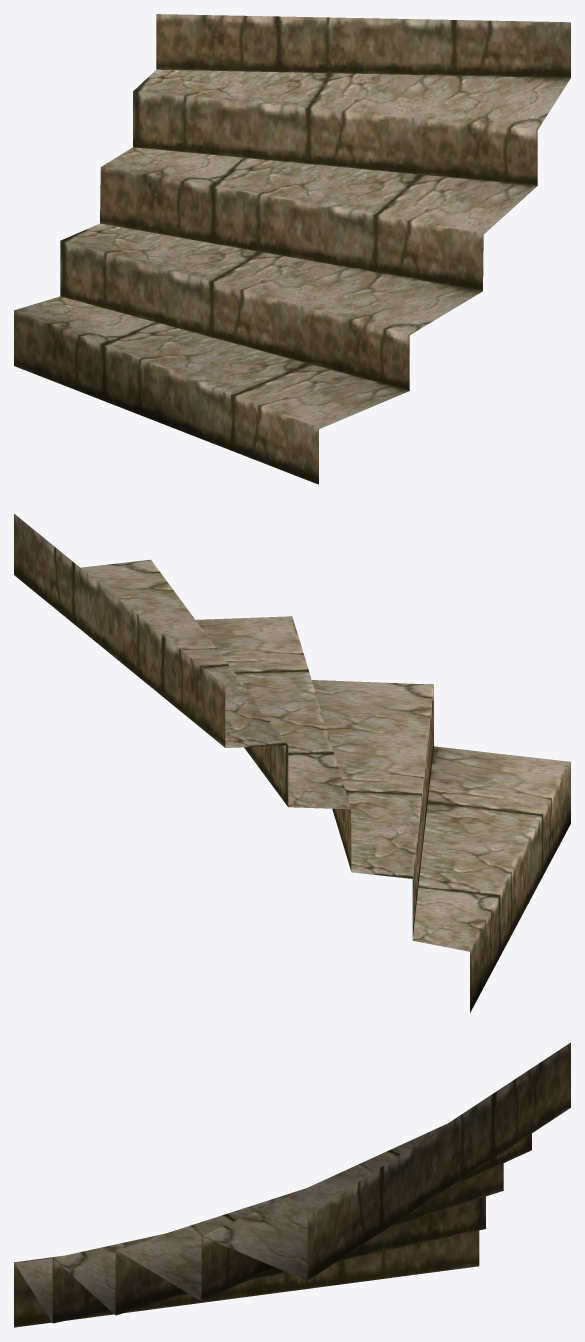
The model's file is OVERHILL_A_01_WALL9.fbx.
The picture shows the model from 3 angles, top to bottom: view 1: azimuth 30°, elevation 25°; view 2: azimuth 150°, elevation 25°; view 3: azimuth 270°, elevation 25°; orthographic projection. The views are drawn at different scales.
Parts seen in each view (by area): view 1: OVERHILL_A_01_WALL9; view 2: OVERHILL_A_01_WALL9; view 3: OVERHILL_A_01_WALL9.
Part boxes in pixels (x1,y1,x2,y2): OVERHILL_A_01_WALL9: (14,14,570,484); OVERHILL_A_01_WALL9: (14,514,570,1012); OVERHILL_A_01_WALL9: (14,1042,570,1327).
Size of the model in its own units: 25783 by 14214 by 21882.
1 material, 1 textured.
